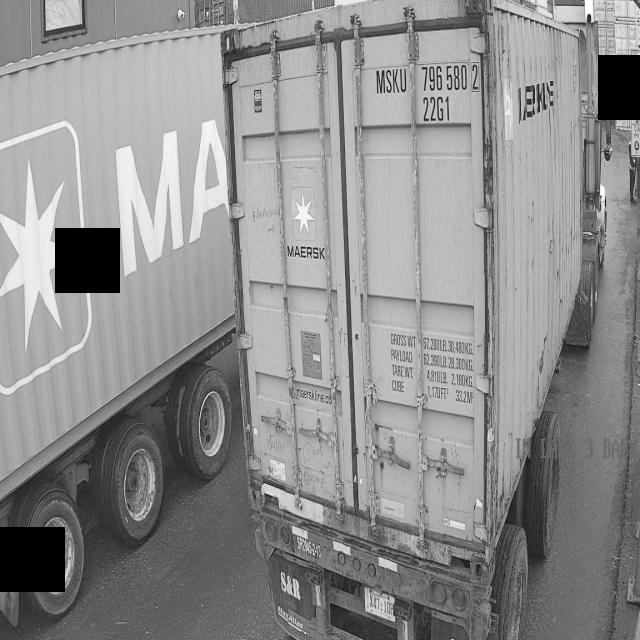container_company_logo: (287, 187, 325, 259)
container_number: (366, 49, 507, 133)
driver: (624, 134, 637, 212)
license_plate: (365, 588, 394, 621)
other_container_info: (389, 322, 478, 408)
truck_with_container: (222, 0, 612, 640), (0, 29, 235, 625)
